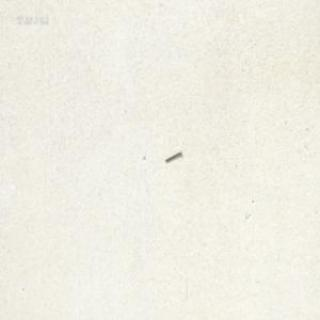Bolttrack_idkeyframe: (163, 148, 181, 161)
